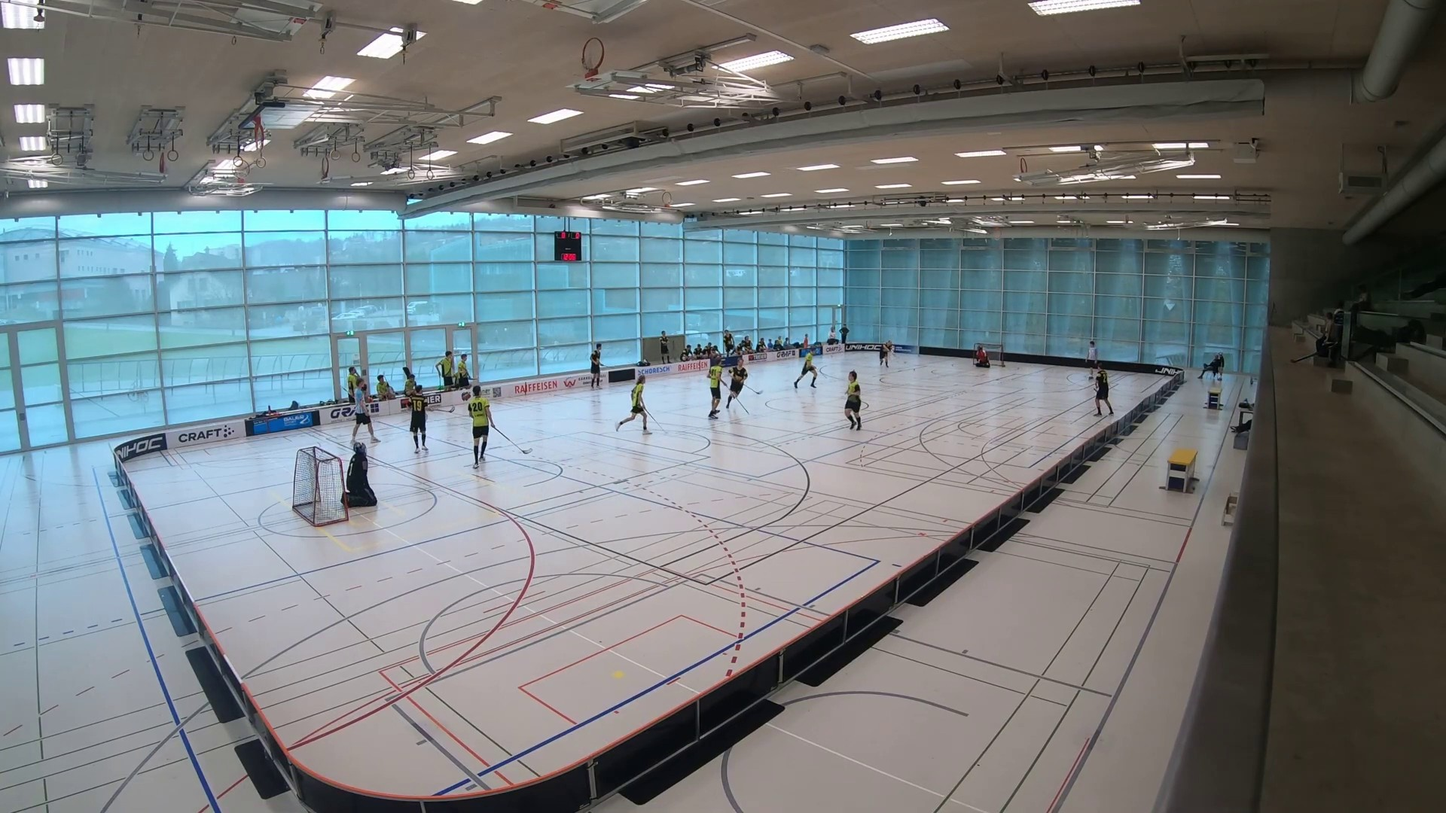Schiri: (348, 377, 379, 447), (1084, 338, 1097, 378)
ball: (911, 366, 918, 373)
goalkeeper: (336, 441, 384, 511), (974, 344, 990, 367)
player: (615, 375, 650, 433), (467, 386, 490, 467), (407, 385, 427, 452), (725, 356, 747, 408), (844, 370, 861, 429), (707, 355, 722, 419), (794, 350, 817, 388), (1095, 368, 1113, 416), (590, 343, 599, 388), (879, 340, 893, 367)
